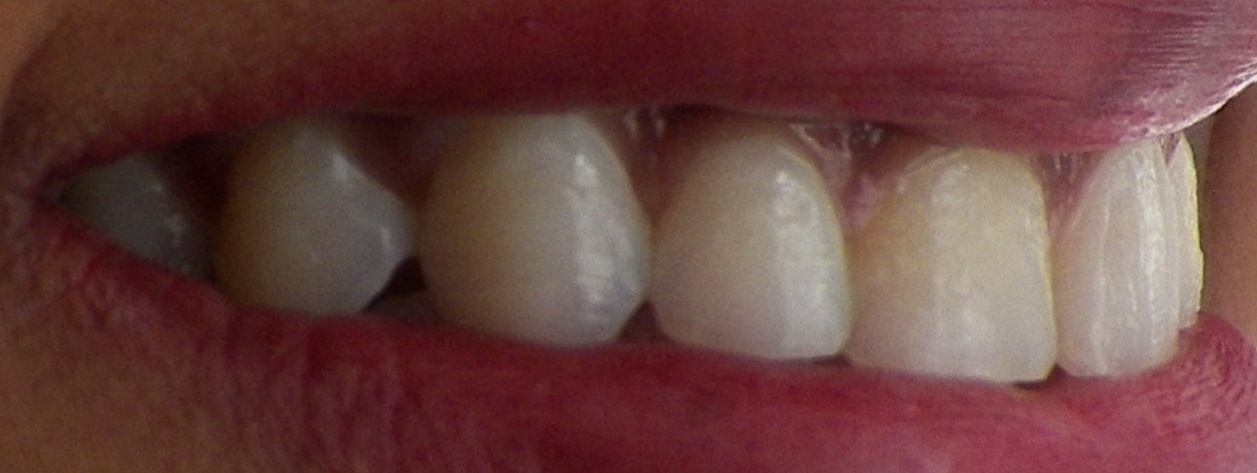boca: (102, 136, 1192, 375)
